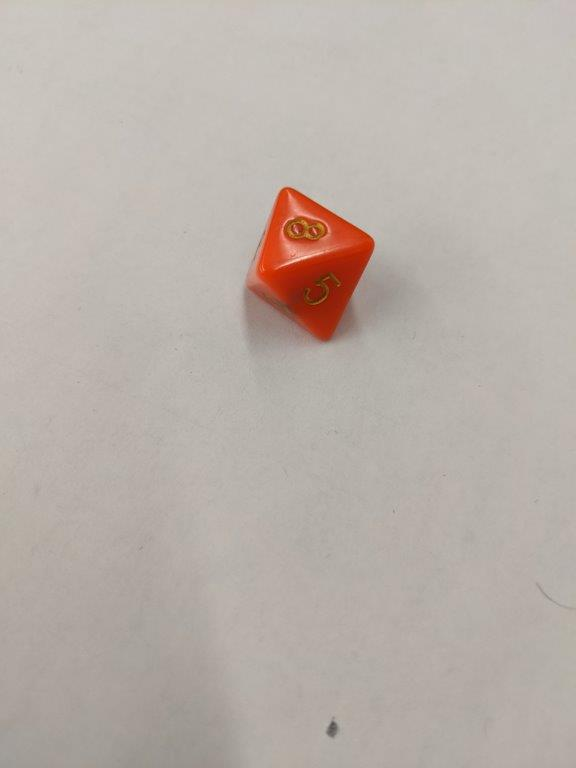d8-8: (243, 185, 377, 346)
